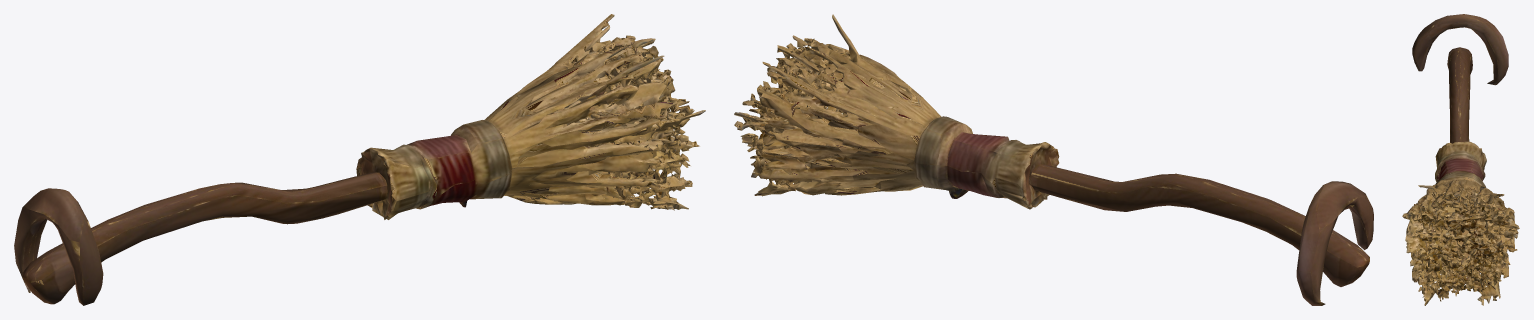
File: broom.glb
The picture shows the model from 3 angles, left to right: view 1: azimuth 30°, elevation 25°; view 2: azimuth 150°, elevation 25°; view 3: azimuth 270°, elevation 25°; orthographic projection. The views are drawn at different scales.
Parts seen in each view (by area): view 1: broom; view 2: broom; view 3: broom.
Part boxes in pixels (x1,y1,x2,y2): broom: [14, 14, 705, 305]; broom: [734, 14, 1373, 305]; broom: [1402, 14, 1519, 305].
Size of the model in its own units: 0.28 by 0.0679 by 0.0652.
Materials: 1 (1 with a texture image).
